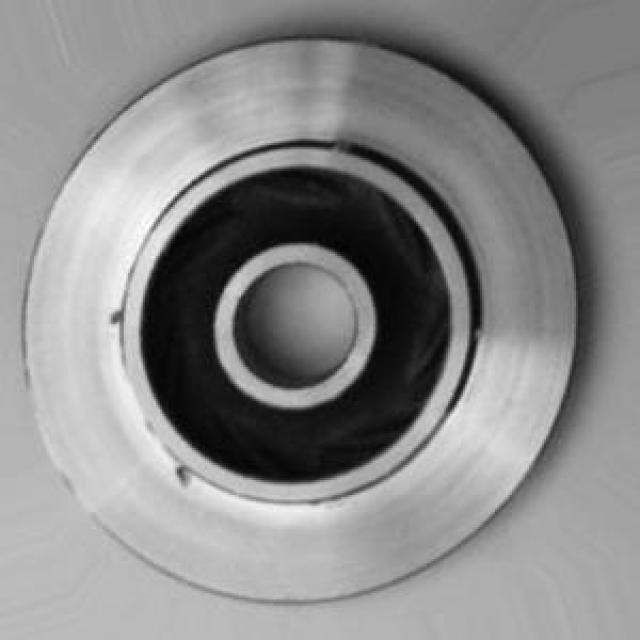Defect: (98, 295, 134, 333), (171, 454, 198, 500)
